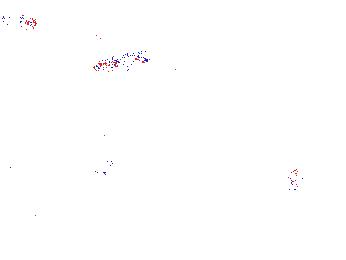X-ray fish: (235, 99, 286, 134), (289, 144, 327, 164), (285, 168, 306, 199)
red belly glassfish: (93, 51, 143, 73), (48, 1, 91, 19), (1, 11, 37, 31)
redtail glassfish: (31, 53, 93, 72)
